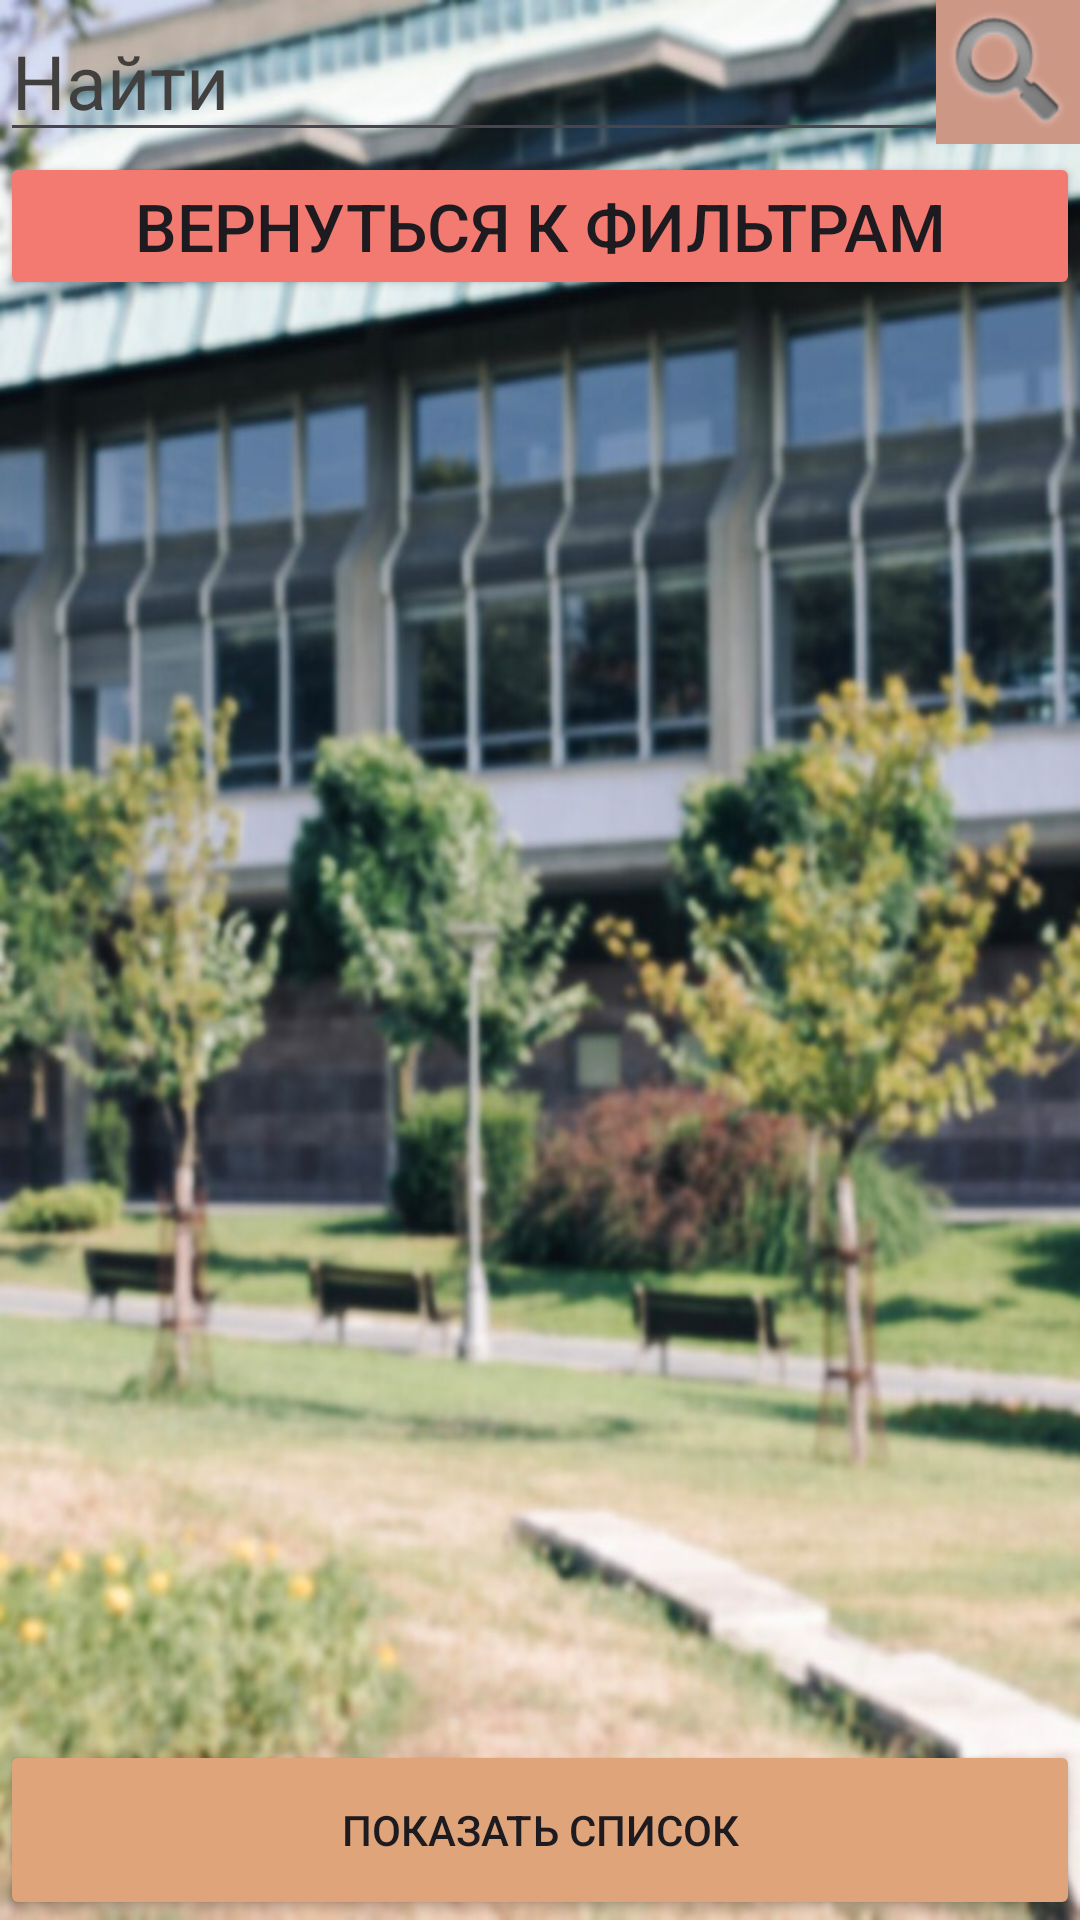

Point at icon controls on the screen. Image size 1080x1920, points as (x,y).
search category: (1008,72)
